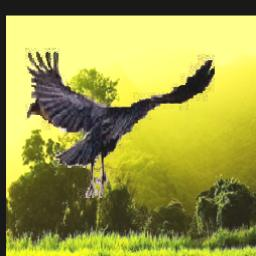Crow: (25, 49, 215, 199)
